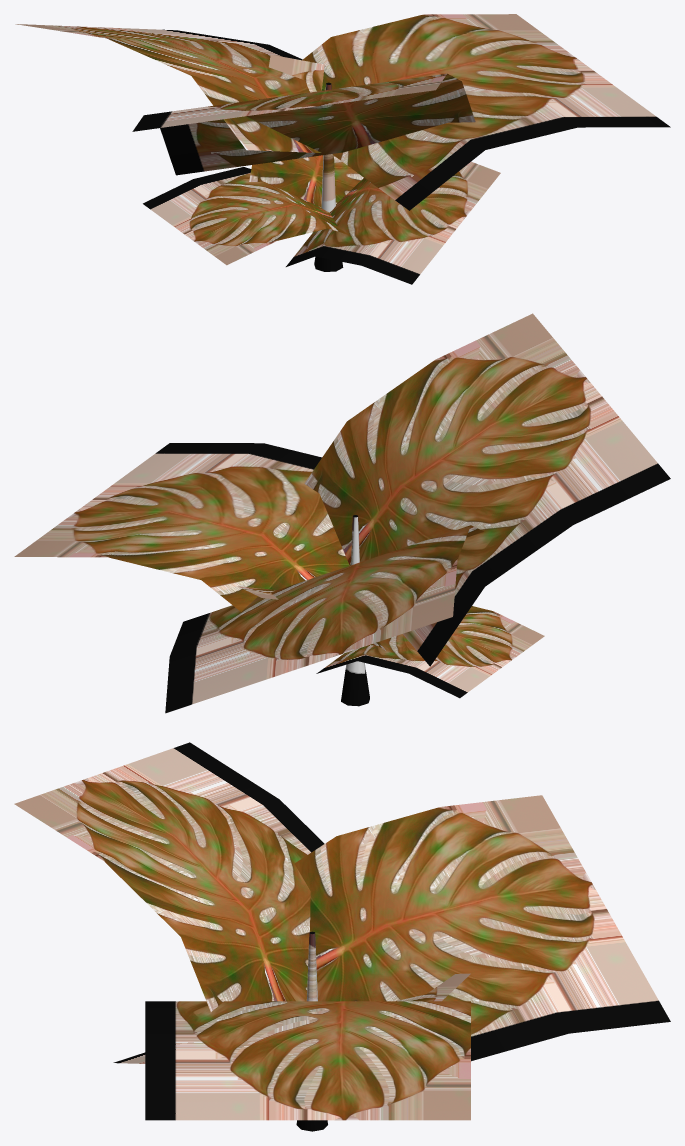
The model's file is plante1_1.FBX.
3 views of the same model, one above another, from view 1: azimuth 30°, elevation 25°; view 2: azimuth 150°, elevation 25°; view 3: azimuth 270°, elevation 25° (orthographic). The views are drawn at different scales.
Visible parts, largest first — view 1: Plane081; view 2: Plane081; view 3: Plane081.
Part boxes in pixels (box(x1,y1,x2,y2)): Plane081: box(15, 14, 670, 284); Plane081: box(14, 313, 670, 713); Plane081: box(14, 742, 670, 1131).
Size of the model in its own units: 238 by 126 by 248.
Materials: 1 (1 with a texture image).
